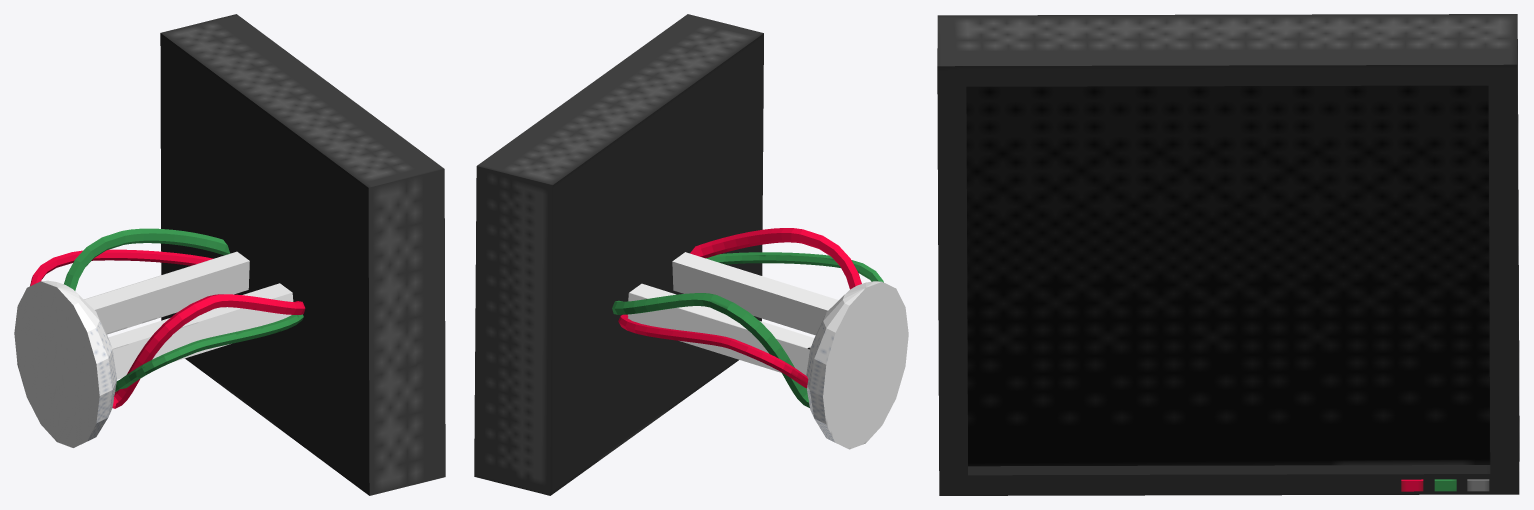
File: TV Pixel.fbx
The picture shows the model from 3 angles, left to right: view 1: azimuth 30°, elevation 25°; view 2: azimuth 150°, elevation 25°; view 3: azimuth 270°, elevation 25°; orthographic projection. The views are drawn at different scales.
Parts seen in each view (by area): view 1: TV Screen, TV Stand; view 2: TV Screen, TV Stand; view 3: TV Screen.
Boxes of the visible parts, x1,y1,x2,y2 form: TV Screen: (160,14,445,495); TV Stand: (14,228,305,447); TV Screen: (474,14,763,495); TV Stand: (612,228,908,449); TV Screen: (937,14,1519,495).
Bounding box in the file's own units: 160 × 166 × 203.
Materials: 2 (2 with a texture image).
